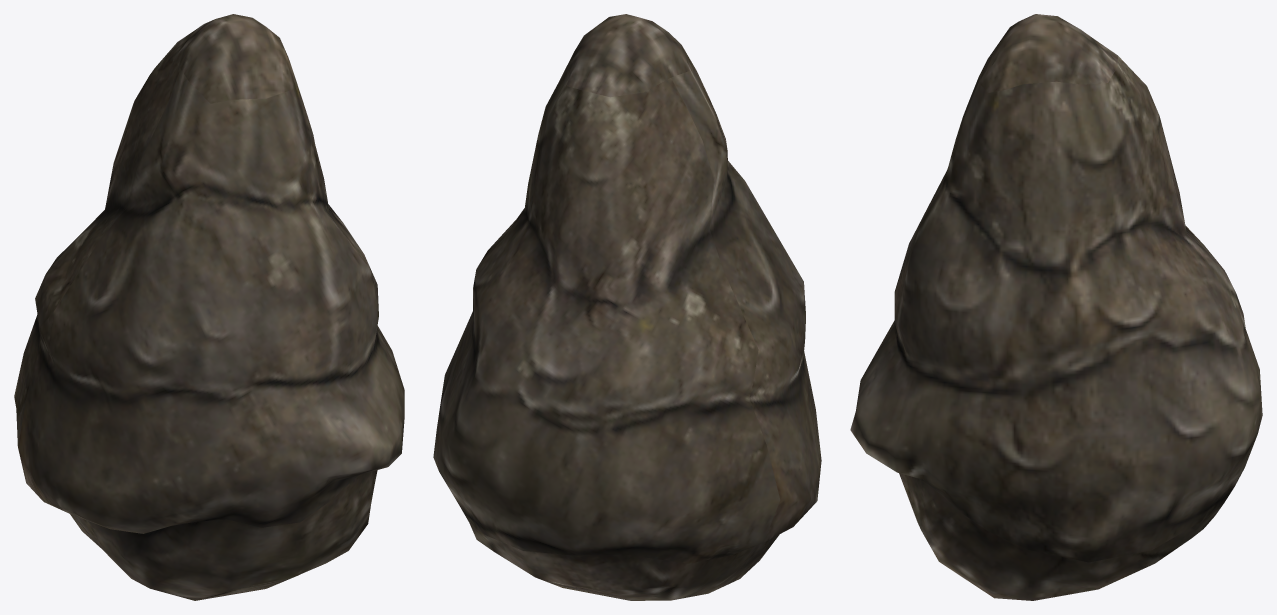
Rendered from stalagmite_small_01.dae.
3 renders of one model, left to right at view 1: azimuth 30°, elevation 25°; view 2: azimuth 150°, elevation 25°; view 3: azimuth 270°, elevation 25°, orthographic.
Parts seen in each view (by area): view 1: stalagmite_small_01__2_; view 2: stalagmite_small_01__2_; view 3: stalagmite_small_01__2_.
Boxes of the visible parts, x1,y1,x2,y2 form: stalagmite_small_01__2_: (14, 14, 404, 600); stalagmite_small_01__2_: (433, 14, 821, 600); stalagmite_small_01__2_: (850, 14, 1262, 600).
Bounding box in the file's own units: 0.5291 × 0.8273 × 0.5545.
